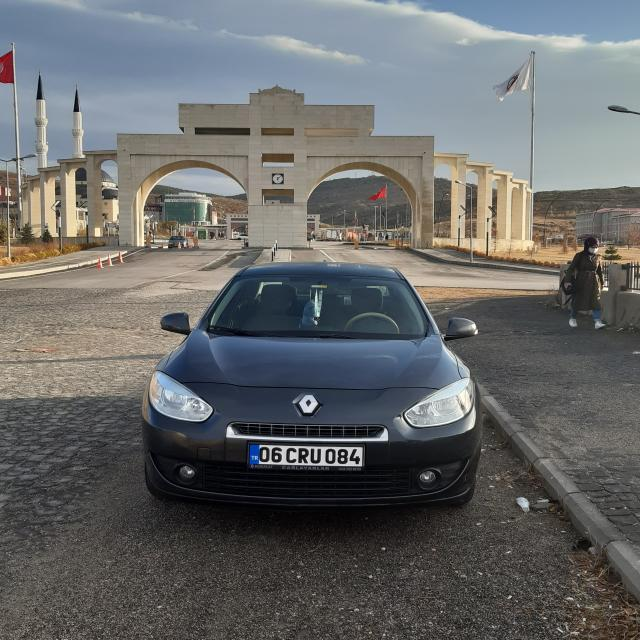license_plate: (248, 443, 364, 466)
